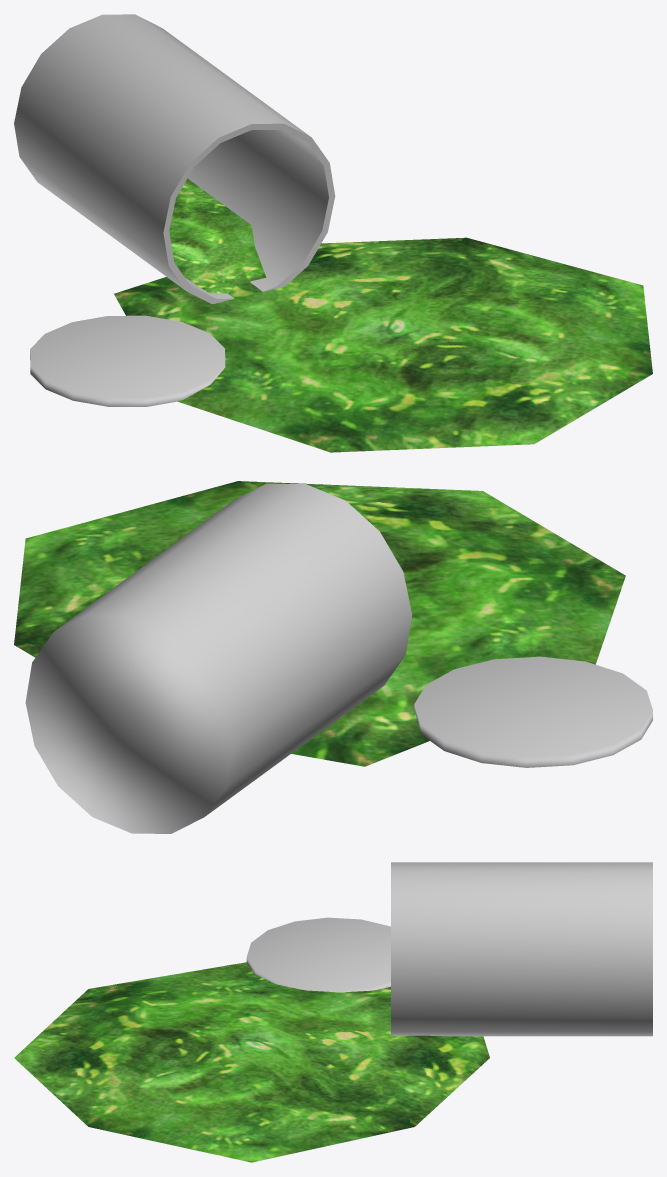
The model's file is toxic_spill_3.fbx.
The picture shows the model from 3 angles, top to bottom: view 1: azimuth 30°, elevation 25°; view 2: azimuth 150°, elevation 25°; view 3: azimuth 270°, elevation 25°; orthographic projection. The views are drawn at different scales.
Visible parts, largest first — view 1: polySurface46; view 2: polySurface46; view 3: polySurface46.
Part boxes in pixels (x1=…): polySurface46: x1=14, y1=14, x2=652, y2=452; polySurface46: x1=14, y1=481, x2=652, y2=833; polySurface46: x1=14, y1=862, x2=652, y2=1162.
Size of the model in its own units: 6.67 by 2.07 by 7.59.
